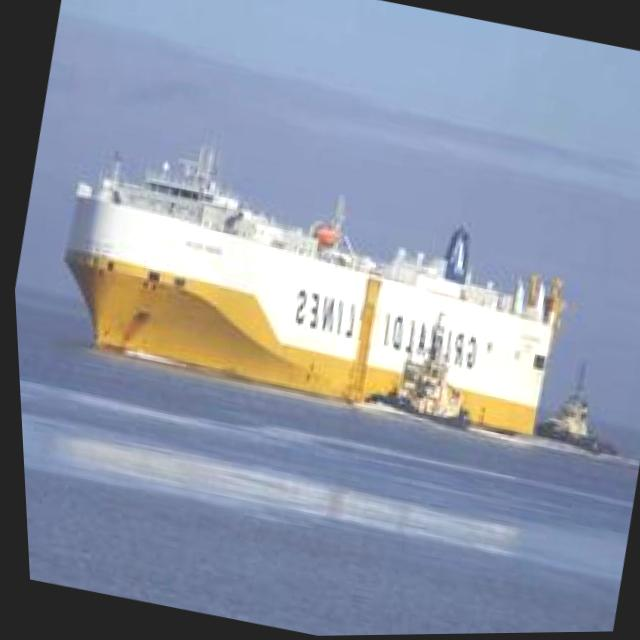ship2: (58, 130, 561, 440)
